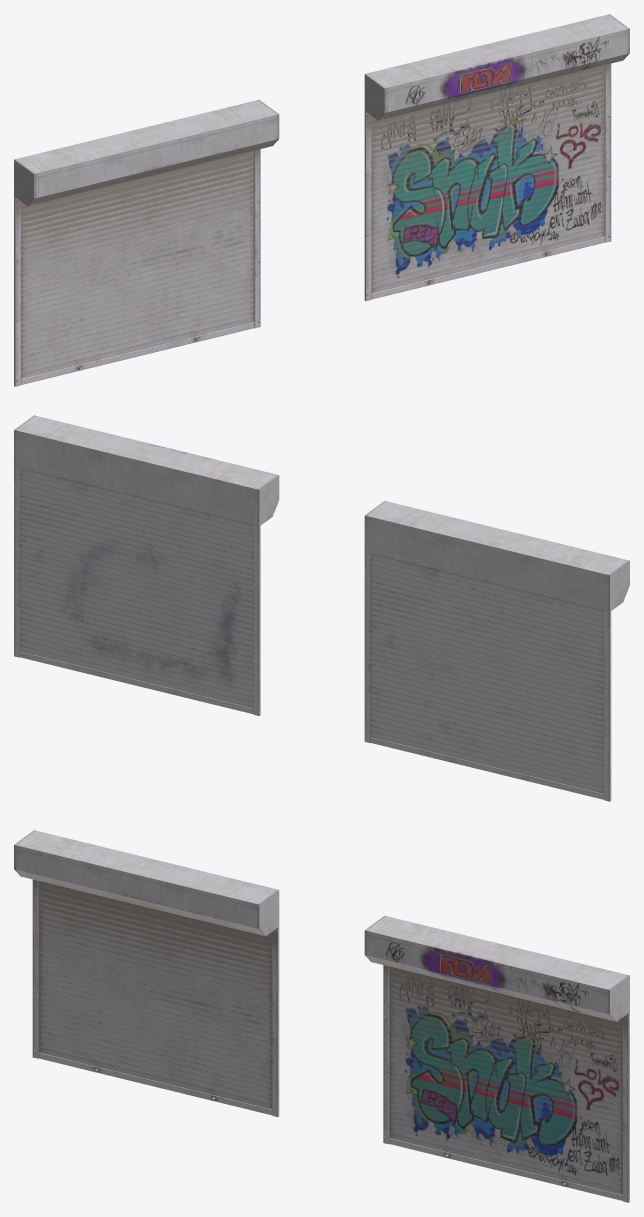
Rendered from rollershutter_window_01.glb.
The picture shows the model from 3 angles, top to bottom: view 1: azimuth 30°, elevation 25°; view 2: azimuth 150°, elevation 25°; view 3: azimuth 330°, elevation 25°; orthographic projection.
Parts seen in each view (by area): view 1: rollershutter_window_01_graffiti, rollershutter_window_01; view 2: rollershutter_window_01, rollershutter_window_01_graffiti; view 3: rollershutter_window_01, rollershutter_window_01_graffiti.
Boxes of the visible parts, x1,y1,x2,y2 form: rollershutter_window_01_graffiti: (364, 14, 629, 301); rollershutter_window_01: (14, 99, 279, 386); rollershutter_window_01: (364, 501, 629, 801); rollershutter_window_01_graffiti: (14, 415, 279, 715); rollershutter_window_01: (14, 830, 279, 1117); rollershutter_window_01_graffiti: (364, 915, 629, 1202).
Size of the model in its own units: 5.1 by 1.85 by 0.3001.
Materials: 2 (2 with a texture image).
